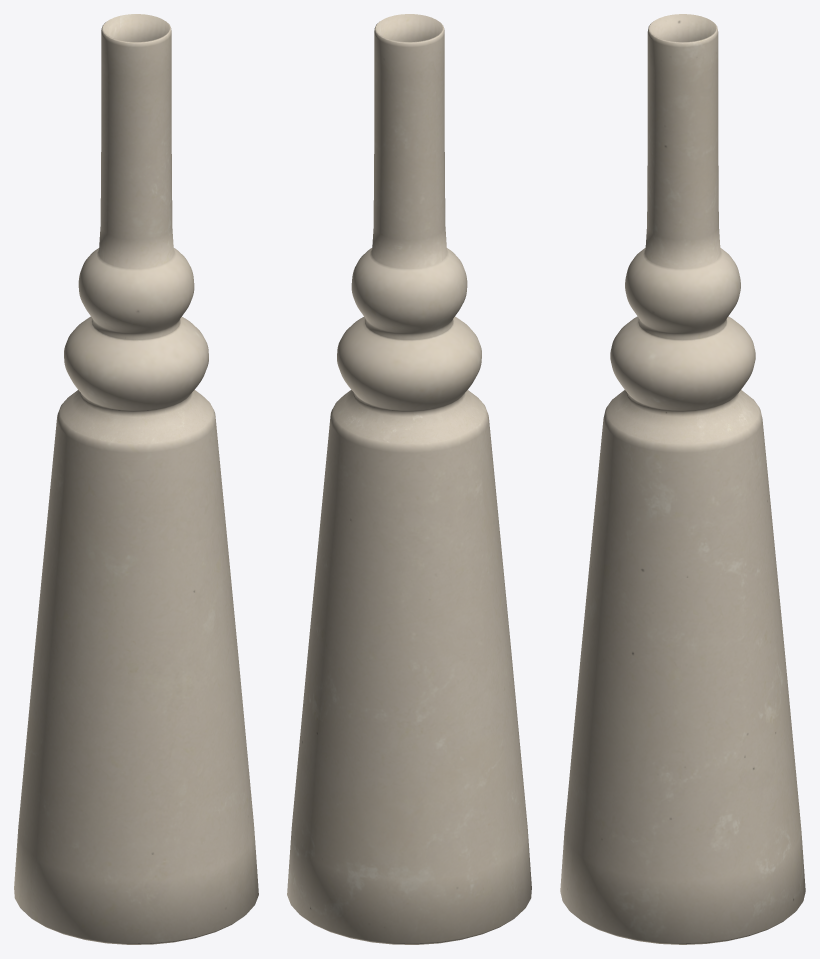
Rendered from Scultura1.fbx.
3 views of the same model, side by side, from view 1: azimuth 30°, elevation 25°; view 2: azimuth 150°, elevation 25°; view 3: azimuth 270°, elevation 25° (orthographic).
Visible parts, largest first — view 1: Scultura1; view 2: Scultura1; view 3: Scultura1.
Part boxes in pixels (x1,y1,x2,y2): Scultura1: (14, 14, 258, 944); Scultura1: (287, 14, 531, 944); Scultura1: (560, 14, 805, 944).
Bounding box in the file's own units: 24.03 × 94.82 × 24.03.
